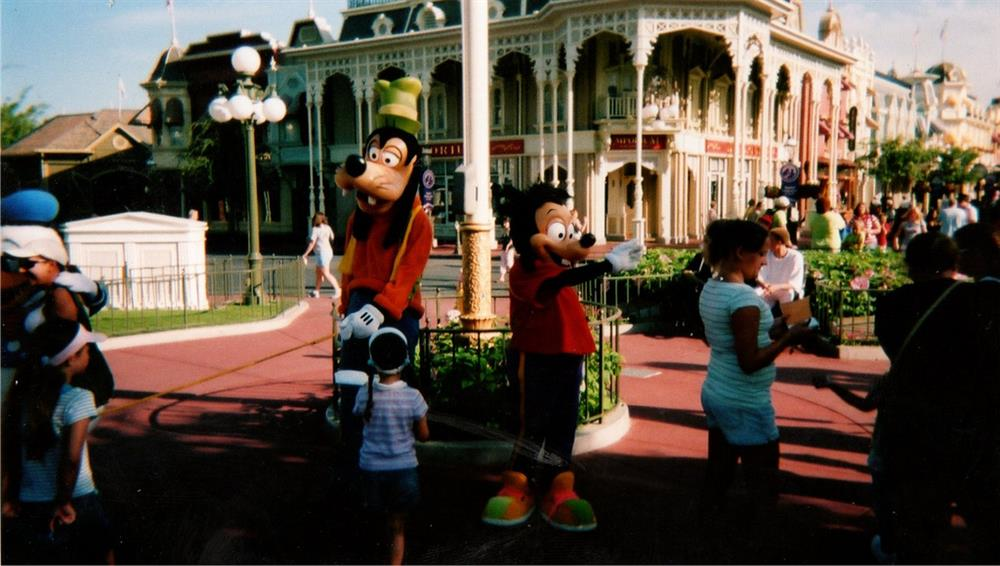Goofy: (328, 95, 455, 225)
